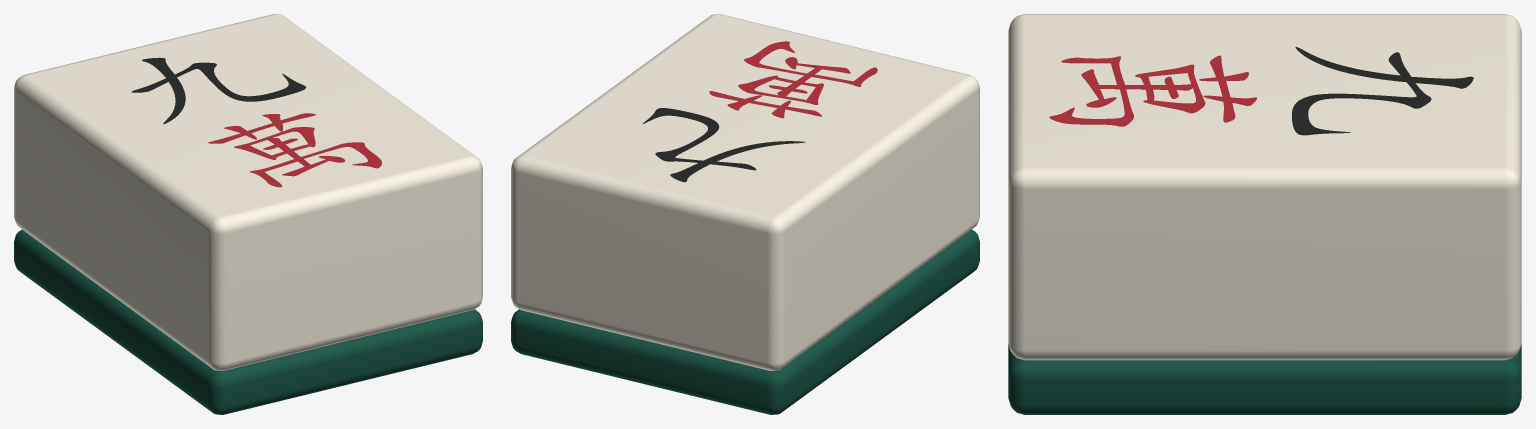
File: wan-09.glb
3 views of the same model, side by side, from view 1: azimuth 30°, elevation 25°; view 2: azimuth 150°, elevation 25°; view 3: azimuth 270°, elevation 25° (orthographic). The views are drawn at different scales.
Parts seen in each view (by area): view 1: wan-09_ivory, wan-09_back, wan-09_face_inlays; view 2: wan-09_ivory, wan-09_back, wan-09_face_inlays; view 3: wan-09_ivory, wan-09_back, wan-09_face_inlays.
Part boxes in pixels (x1,y1,x2,y2): wan-09_ivory: (14,14,482,370); wan-09_back: (14,229,482,414); wan-09_face_inlays: (132,57,381,187); wan-09_ivory: (511,14,979,370); wan-09_back: (511,229,979,414); wan-09_face_inlays: (643,41,877,182); wan-09_ivory: (1008,14,1521,360); wan-09_back: (1008,344,1521,414); wan-09_face_inlays: (1049,47,1473,135).
Size of the model in its own units: 0.026 by 0.018 by 0.034.
